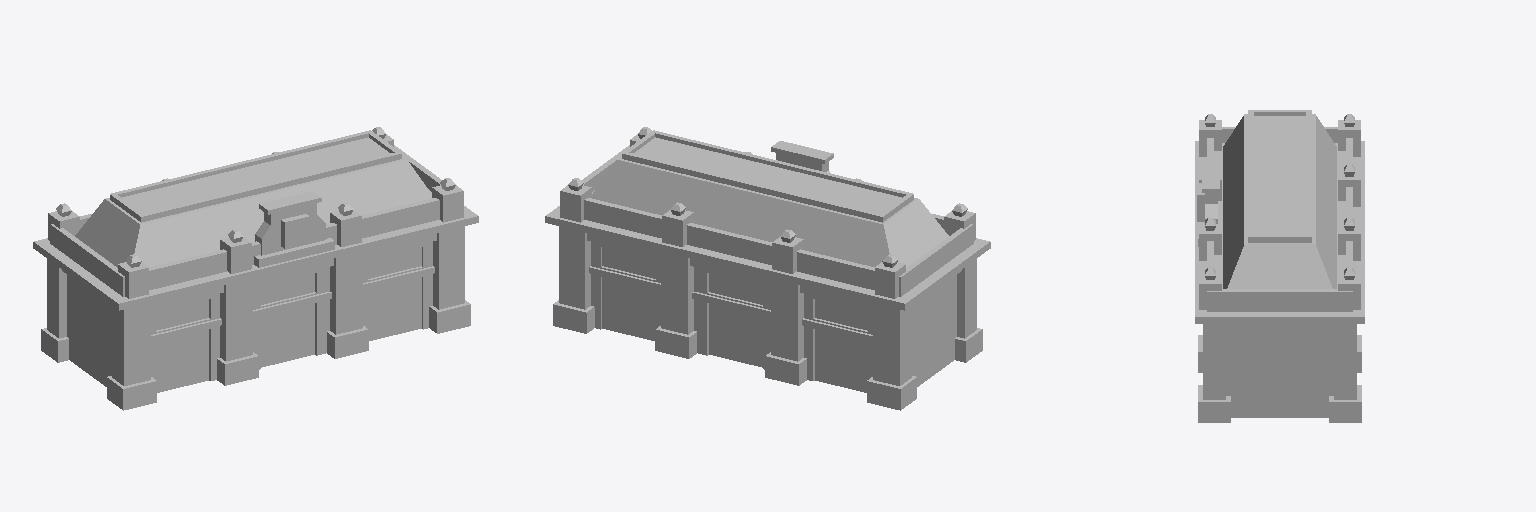
File: SM_Bld_Station_Large_02.obj
The picture shows the model from 3 angles: view 1: azimuth 30°, elevation 25°; view 2: azimuth 150°, elevation 25°; view 3: azimuth 270°, elevation 25°; orthographic projection.
Visible parts, largest first — view 1: SM_Bld_Station_Large_02:Mesh; view 2: SM_Bld_Station_Large_02:Mesh; view 3: SM_Bld_Station_Large_02:Mesh.
Part boxes in pixels (bbox=[...]): SM_Bld_Station_Large_02:Mesh: bbox=[33, 127, 478, 410]; SM_Bld_Station_Large_02:Mesh: bbox=[545, 127, 990, 410]; SM_Bld_Station_Large_02:Mesh: bbox=[1195, 110, 1364, 422].
Bounding box in the file's own units: 32.21 × 14.08 × 13.19.